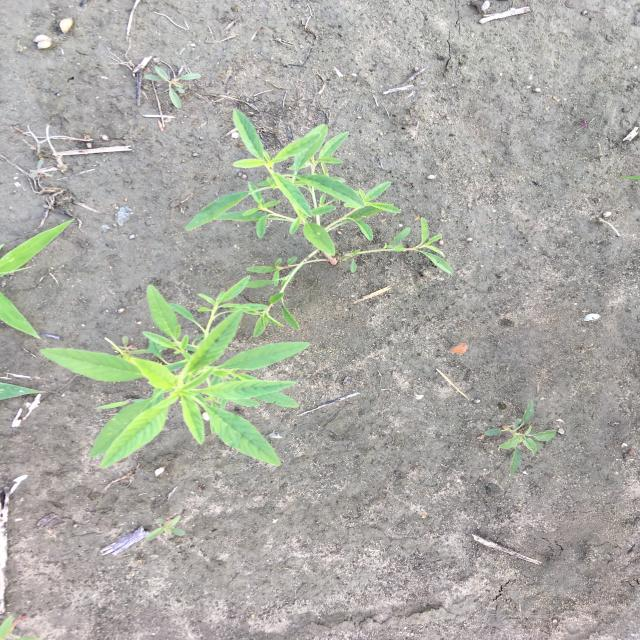Waterhemp: (182, 108, 455, 338), (39, 274, 312, 471), (480, 398, 560, 481)
